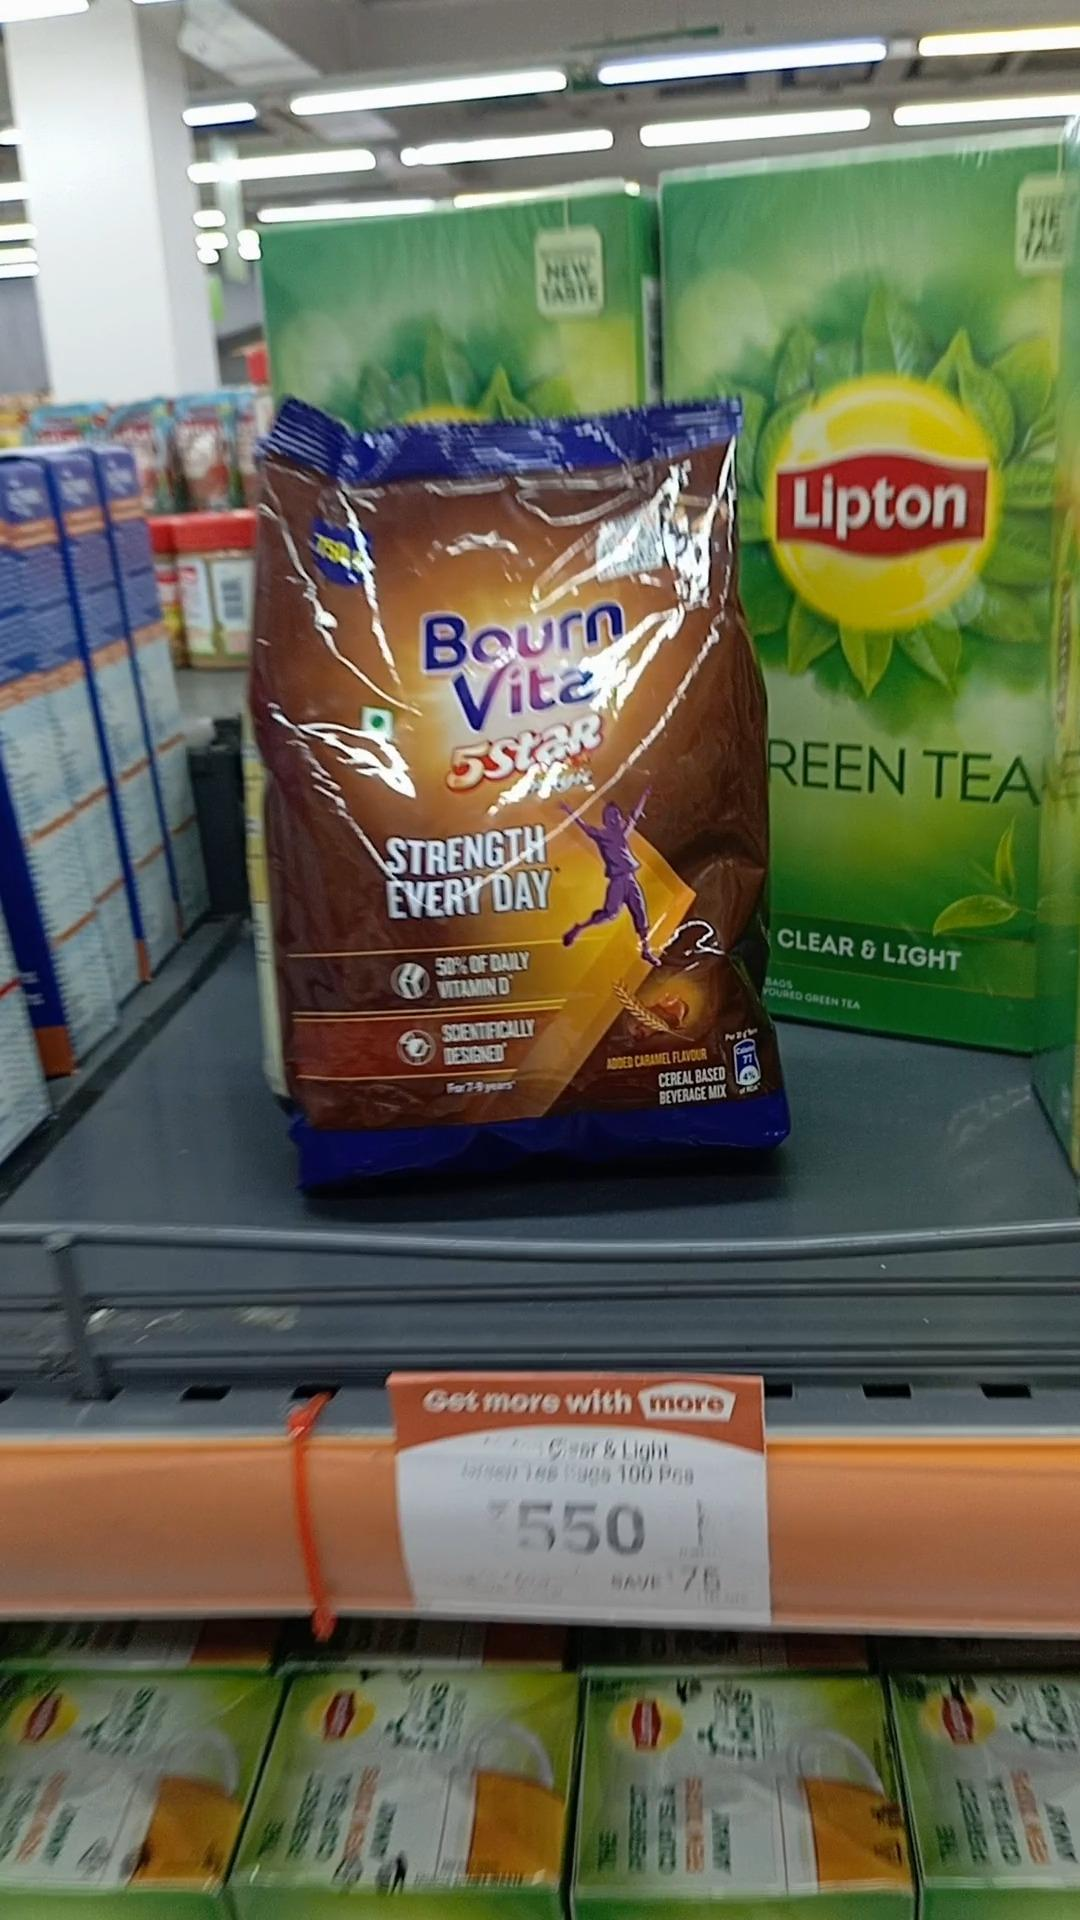BOURN_VITA_FIVE_STAR_MAGIC_750_G_POUCH: (256, 384, 771, 1174)
